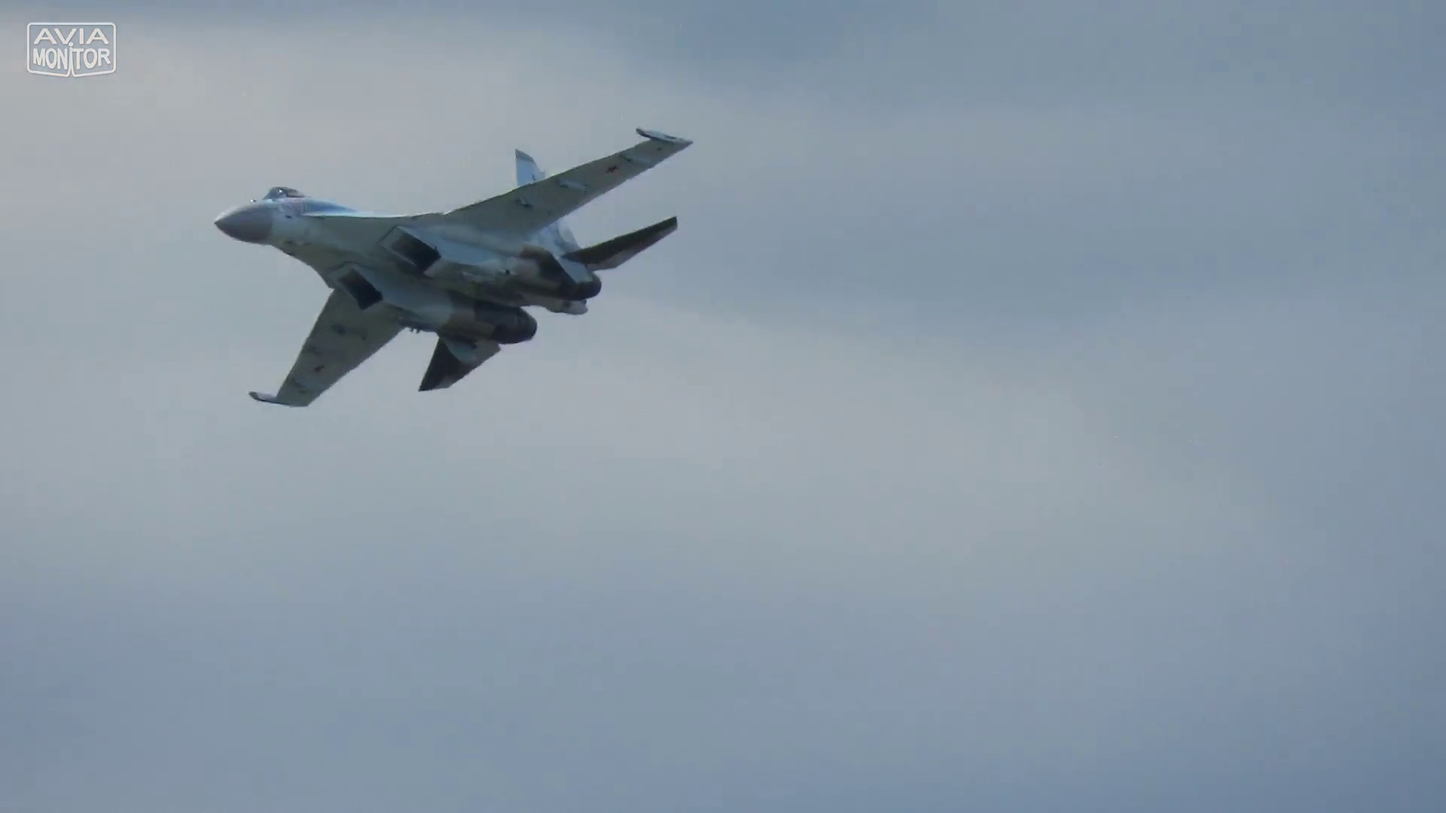Su35: (209, 128, 695, 409)
